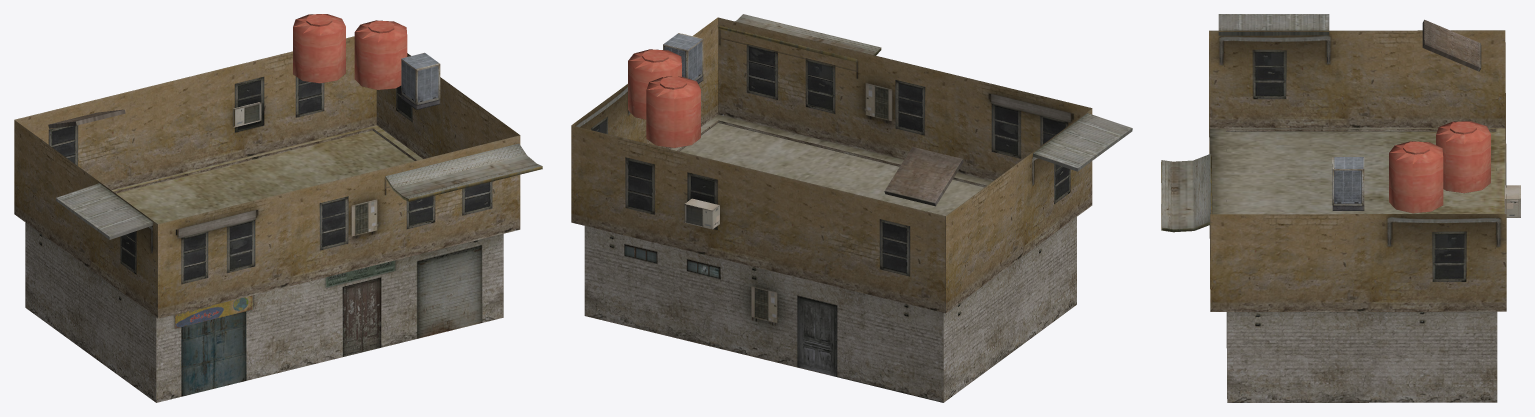
The model's file is building08.fbx.
3 views of the same model, side by side, from view 1: azimuth 30°, elevation 25°; view 2: azimuth 150°, elevation 25°; view 3: azimuth 270°, elevation 25° (orthographic). The views are drawn at different scales.
Visible parts, largest first — view 1: Building_88; view 2: Building_88; view 3: Building_88.
Part boxes in pixels (x1,y1,x2,y2): Building_88: (14, 14, 542, 402); Building_88: (571, 14, 1132, 402); Building_88: (1161, 14, 1520, 402).
Size of the model in its own units: 1244 by 678 by 920.
